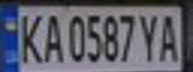0: (63, 11, 84, 64)
5: (84, 11, 103, 63)
7: (118, 10, 139, 63)
8: (103, 11, 121, 63)
A: (154, 10, 184, 63), (39, 10, 63, 64)
K: (15, 9, 45, 65)
Y: (136, 10, 163, 63)
